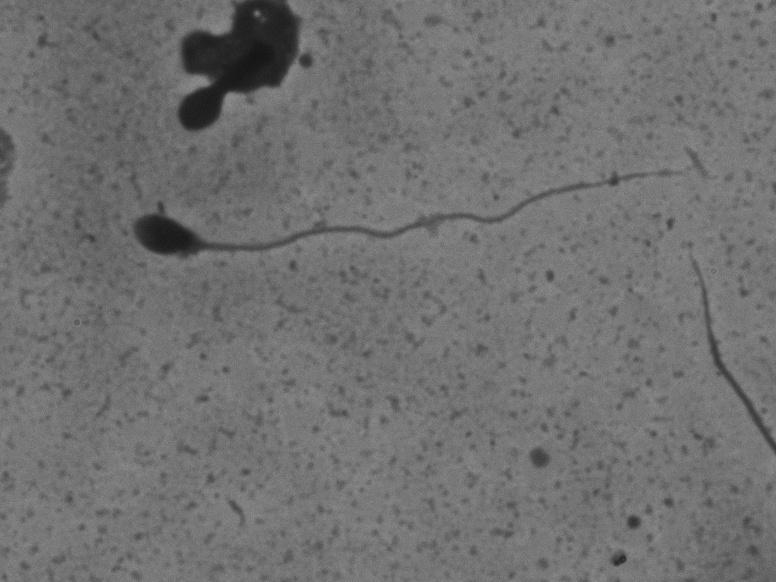Normal: (111, 134, 681, 323)
